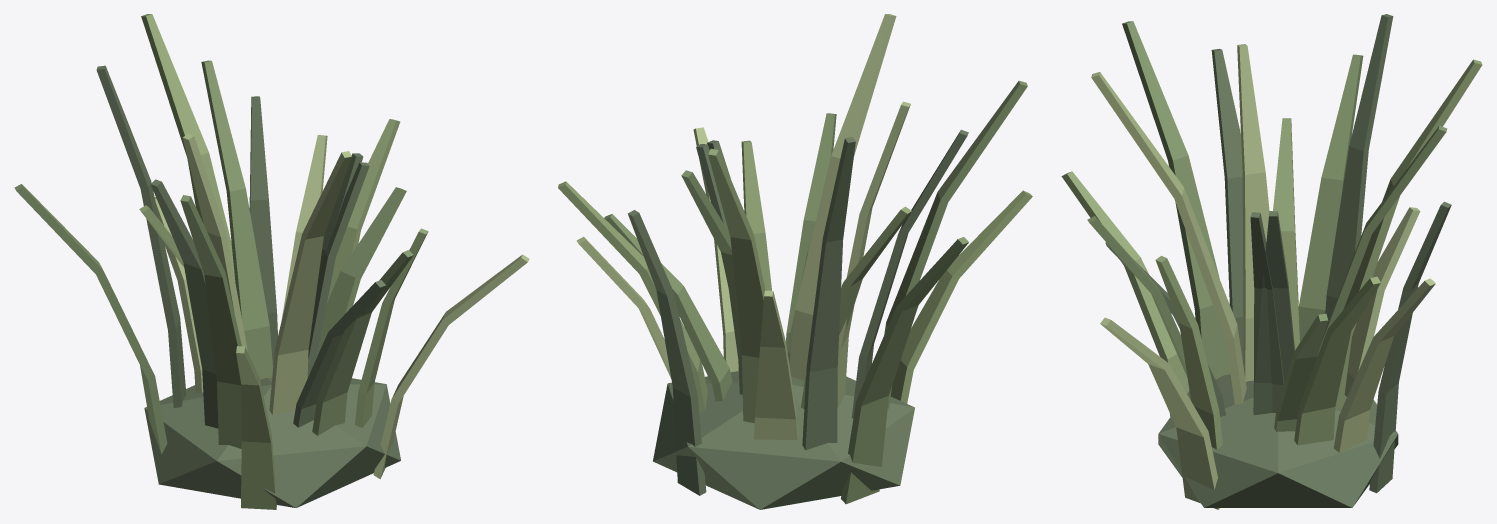
The model's file is grass-tuft.glb.
3 views of the same model, side by side, from view 1: azimuth 30°, elevation 25°; view 2: azimuth 150°, elevation 25°; view 3: azimuth 270°, elevation 25° (orthographic). The views are drawn at different scales.
Parts seen in each view (by area): view 1: grass-tuft; view 2: grass-tuft; view 3: grass-tuft.
Part boxes in pixels (left/top/right/bottom): grass-tuft: left=14, top=14, right=529, bottom=509; grass-tuft: left=558, top=14, right=1032, bottom=509; grass-tuft: left=1061, top=14, right=1482, bottom=509.
Size of the model in its own units: 0.9876 by 0.977 by 0.8957.
